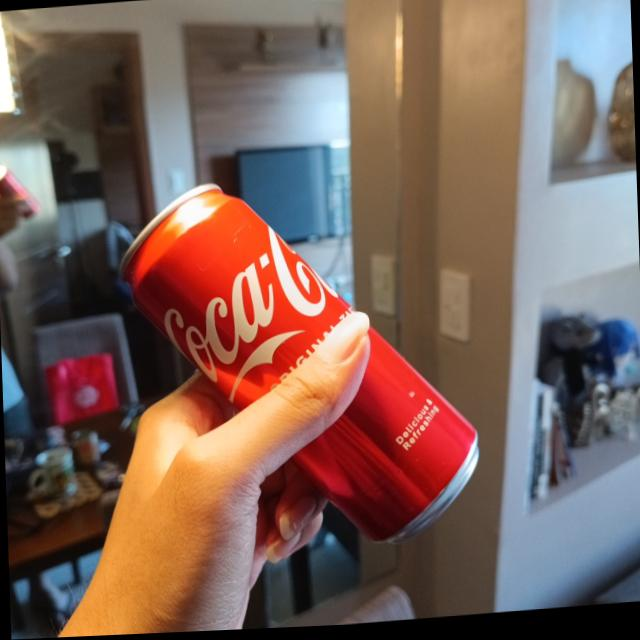coke: (121, 166, 481, 561)
